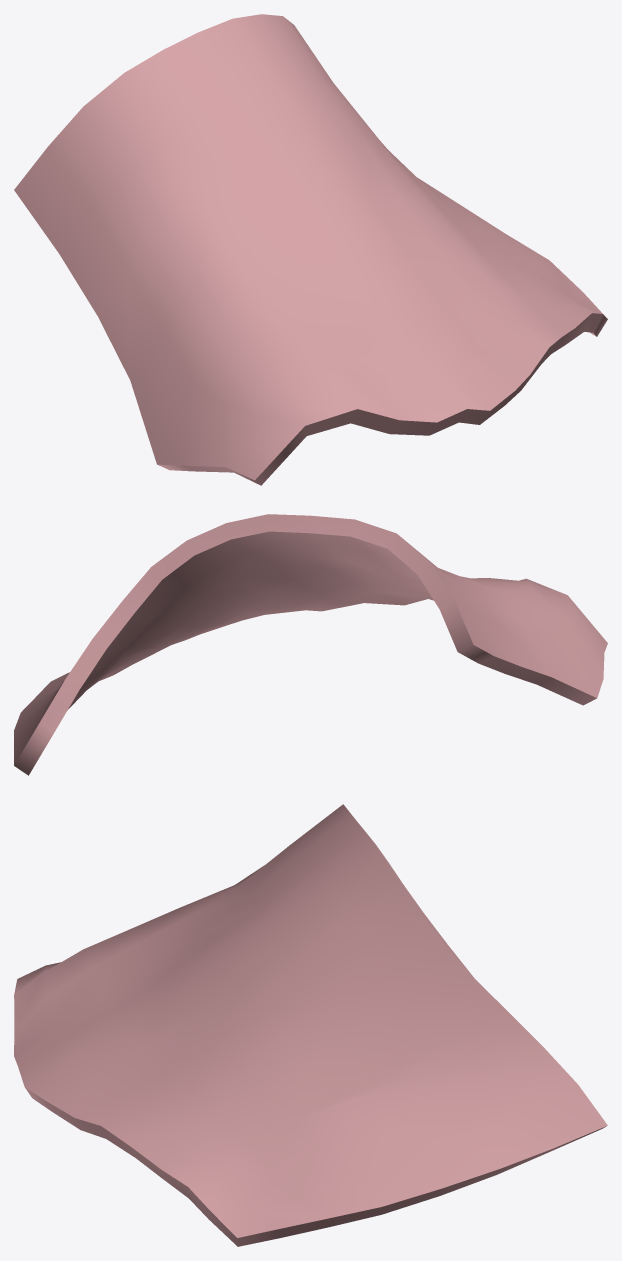
3 renders of one model, top to bottom at view 1: azimuth 30°, elevation 25°; view 2: azimuth 150°, elevation 25°; view 3: azimuth 270°, elevation 25°, orthographic. The views are drawn at different scales.
Parts seen in each view (by area): view 1: ZA_a8595f0e36d1ffbf; view 2: ZA_a8595f0e36d1ffbf; view 3: ZA_a8595f0e36d1ffbf.
Part boxes in pixels (bbox=[...]): ZA_a8595f0e36d1ffbf: bbox=[14, 14, 607, 485]; ZA_a8595f0e36d1ffbf: bbox=[14, 514, 607, 775]; ZA_a8595f0e36d1ffbf: bbox=[14, 804, 607, 1246].
Size of the model in its own units: 0.0863 by 0.0517 by 0.0995.
